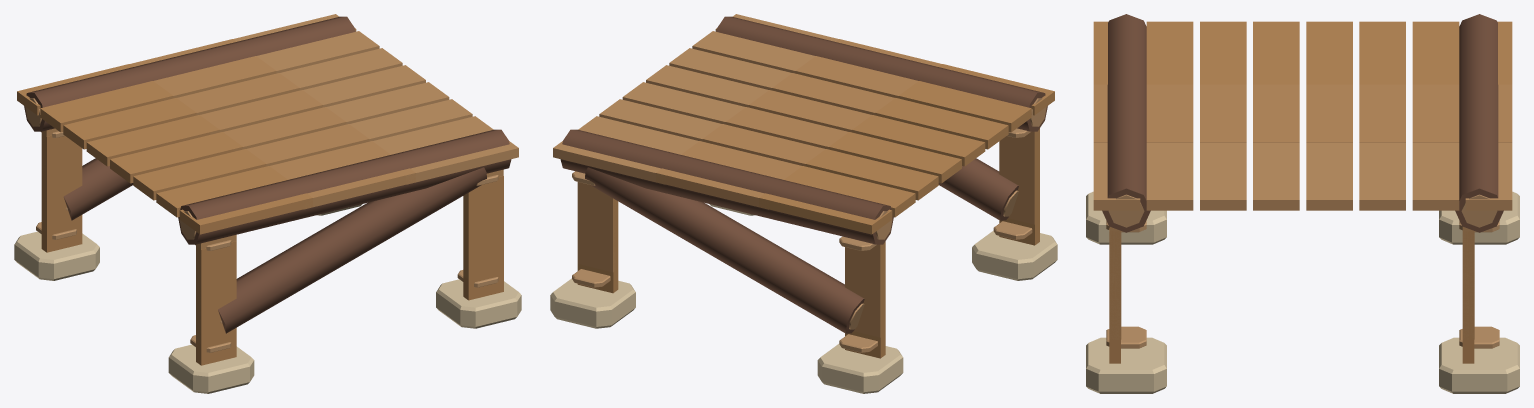
File: platform.glb
3 renders of one model, left to right at view 1: azimuth 30°, elevation 25°; view 2: azimuth 150°, elevation 25°; view 3: azimuth 270°, elevation 25°, orthographic. The views are drawn at different scales.
Visible parts, largest first — view 1: CrossBrace2, RimBeam2, FloorPlank_02, FloorPlank_01, FloorPlank_03, FloorPlank_04, FloorPlank_05, RimBeam, FloorPlank_06, FloorPlank_07, Post4, Post2 (+6 smaller); view 2: CrossBrace, RimBeam, FloorPlank_05, FloorPlank_06, FloorPlank_03, FloorPlank_04, FloorPlank_02, RimBeam2, FloorPlank_01, FloorPlank_00, Post3, Post (+9 smaller); view 3: FloorPlank_01, FloorPlank_06, FloorPlank_02, FloorPlank_03, FloorPlank_04, FloorPlank_05, RimBeam, RimBeam2, StoneFoot3, StoneFoot4, FloorPlank_00, FloorPlank_07 (+6 smaller).
Part boxes in pixels (<box>): CrossBrace2: <box>218,167,486,333</box>; RimBeam2: <box>178,129,511,244</box>; FloorPlank_02: <box>63,48,402,149</box>; FloorPlank_01: <box>40,31,379,132</box>; FloorPlank_03: <box>86,65,425,166</box>; FloorPlank_04: <box>110,82,449,183</box>; FloorPlank_05: <box>133,99,472,200</box>; RimBeam: <box>24,16,355,131</box>; FloorPlank_06: <box>156,116,493,217</box>; FloorPlank_07: <box>179,141,518,234</box>; Post4: <box>463,169,503,300</box>; Post2: <box>196,234,236,365</box>; CrossBrace: <box>585,167,864,333</box>; RimBeam: <box>560,129,893,244</box>; FloorPlank_05: <box>669,48,1008,149</box>; FloorPlank_06: <box>692,31,1031,132</box>; FloorPlank_03: <box>622,82,961,183</box>; FloorPlank_04: <box>646,65,985,166</box>; FloorPlank_02: <box>599,99,938,200</box>; RimBeam2: <box>716,16,1047,131</box>; FloorPlank_01: <box>578,116,915,217</box>; FloorPlank_00: <box>553,141,892,234</box>; Post3: <box>577,182,618,293</box>; Post: <box>845,241,885,358</box>; FloorPlank_01: <box>1412,21,1459,210</box>; FloorPlank_06: <box>1146,21,1193,210</box>; FloorPlank_02: <box>1359,21,1405,210</box>; FloorPlank_03: <box>1306,21,1352,210</box>; FloorPlank_04: <box>1253,21,1299,210</box>; FloorPlank_05: <box>1200,21,1246,210</box>; RimBeam: <box>1455,14,1503,232</box>; RimBeam2: <box>1102,14,1150,232</box>; StoneFoot3: <box>1439,337,1519,393</box>; StoneFoot4: <box>1086,337,1166,393</box>; FloorPlank_00: <box>1465,21,1512,210</box>; FloorPlank_07: <box>1093,21,1140,210</box>.
Bounding box in the file's own units: 2.04 × 1.05 × 2.04.
